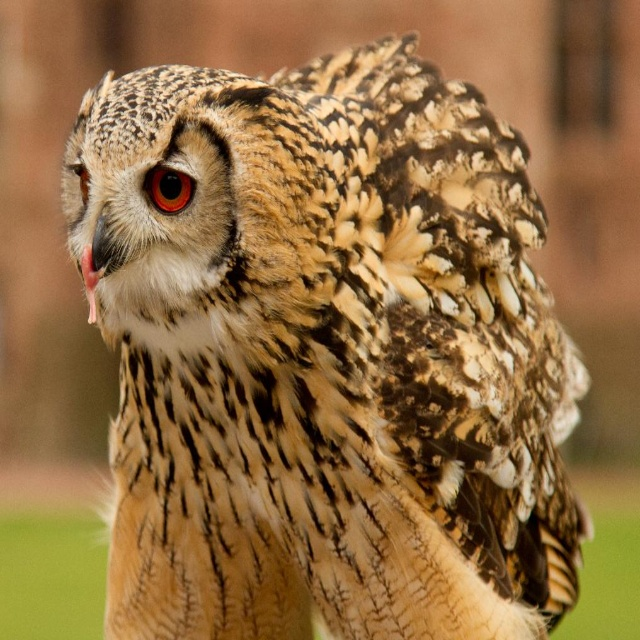Owl: (56, 28, 597, 639)
